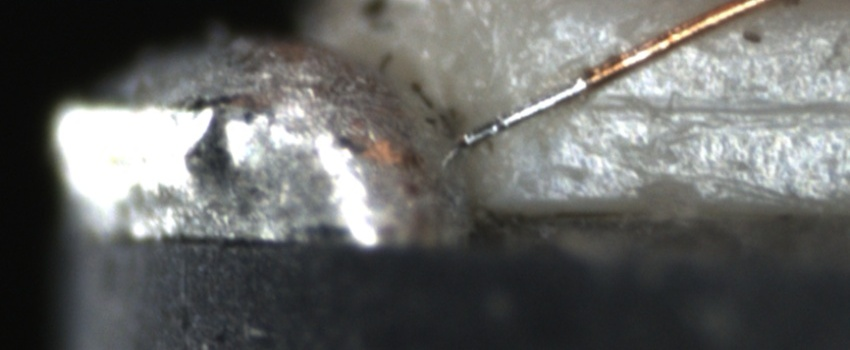DL: (561, 80, 850, 144)
TS: (462, 78, 587, 147)
